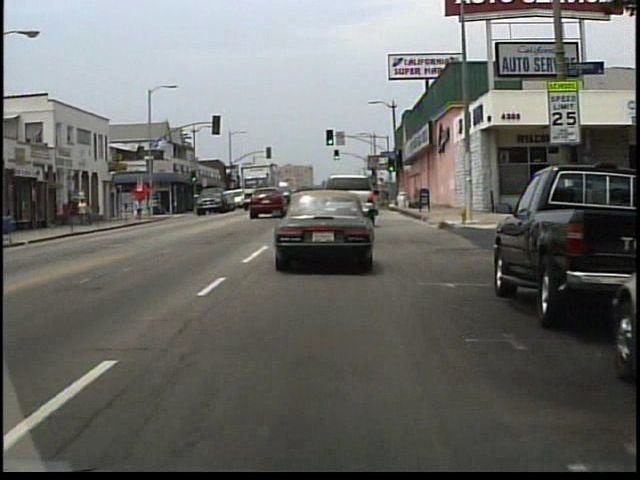person: (79, 198, 90, 226), (87, 200, 96, 226), (136, 198, 145, 219)
